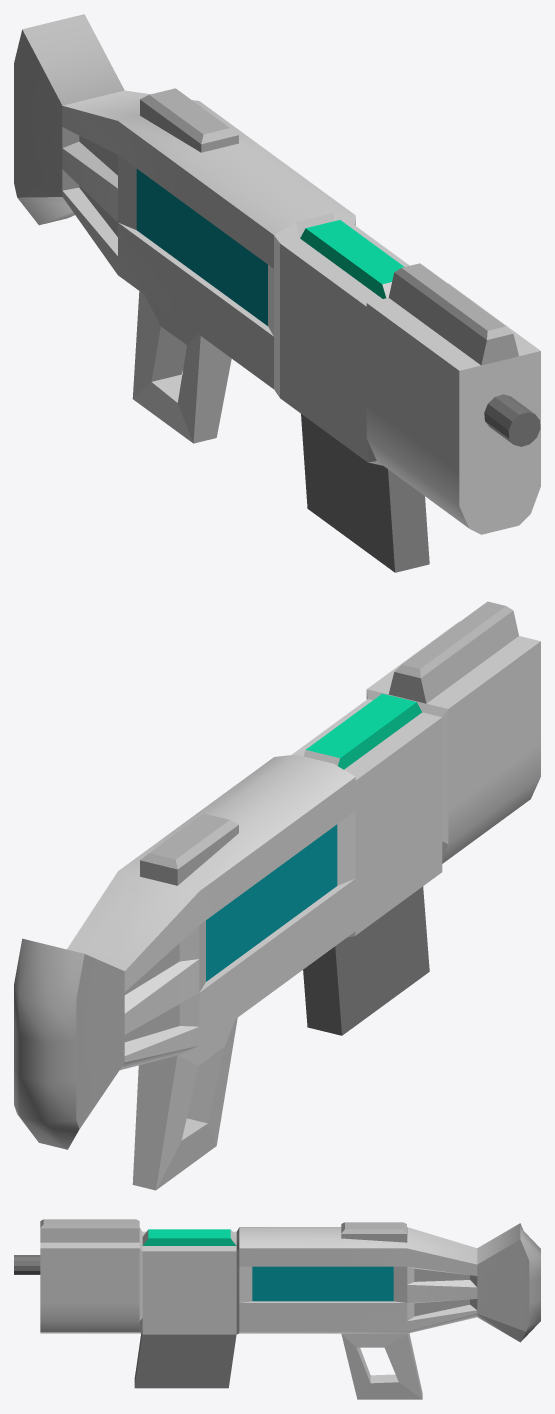
Rendered from TechnoGewehr.fbx.
3 renders of one model, top to bottom at view 1: azimuth 30°, elevation 25°; view 2: azimuth 150°, elevation 25°; view 3: azimuth 270°, elevation 25°, orthographic. The views are drawn at different scales.
Parts seen in each view (by area): view 1: Gewehr; view 2: Gewehr; view 3: Gewehr.
Boxes of the visible parts, x1=… form: Gewehr: x1=14, y1=14, x2=540, y2=572; Gewehr: x1=14, y1=601, x2=540, y2=1190; Gewehr: x1=14, y1=1219, x2=540, y2=1399.
Size of the model in its own units: 0.3021 by 1.15 by 3.15.
